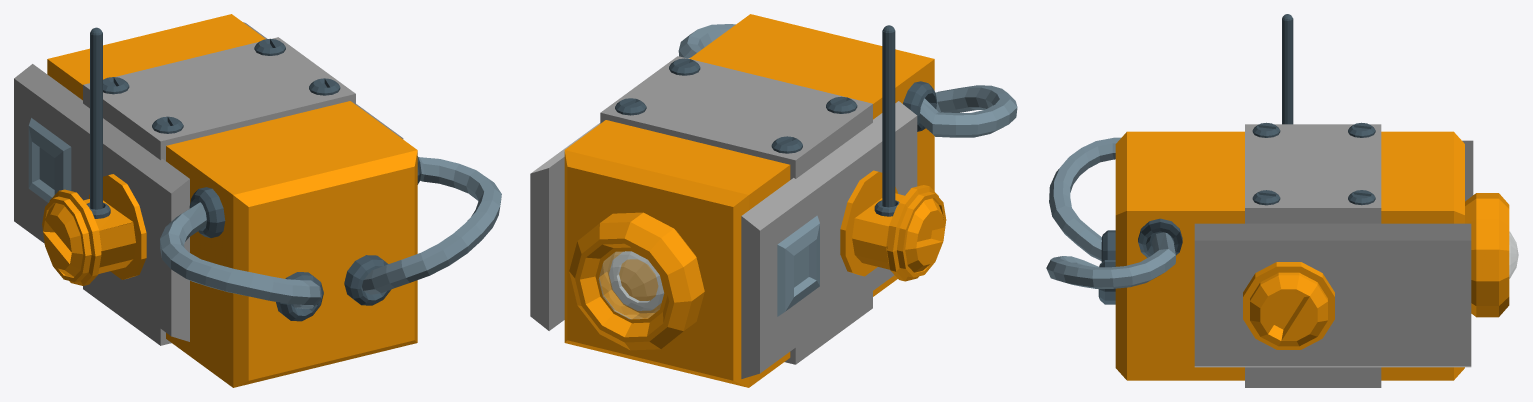
The model's file is head02.glb.
The picture shows the model from 3 angles, left to right: view 1: azimuth 30°, elevation 25°; view 2: azimuth 150°, elevation 25°; view 3: azimuth 270°, elevation 25°; orthographic projection. The views are drawn at different scales.
Visible parts, largest first — view 1: group1961268007; view 2: group1961268007; view 3: group1961268007.
Boxes of the visible parts, box(x1,y1,x2,y2) form: group1961268007: box(14, 14, 501, 387); group1961268007: box(530, 14, 1017, 387); group1961268007: box(1046, 14, 1518, 387).
Bounding box in the file's own units: 0.8456 × 0.7779 × 1.16.
